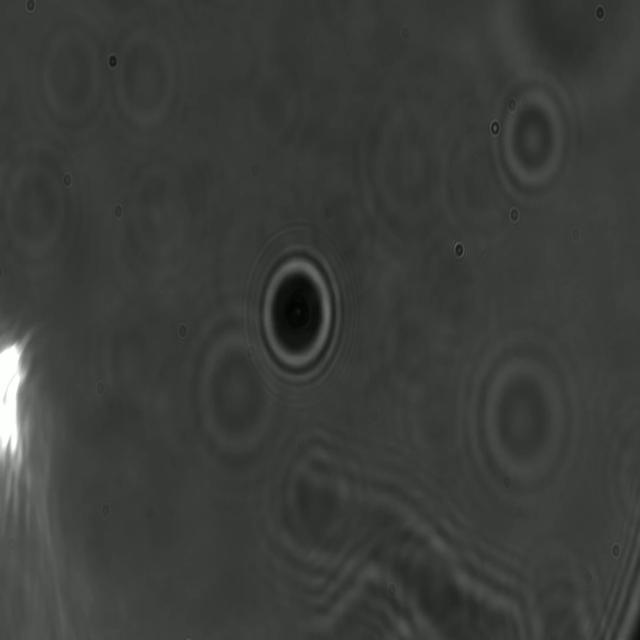DCELL: (256, 239, 346, 391)
